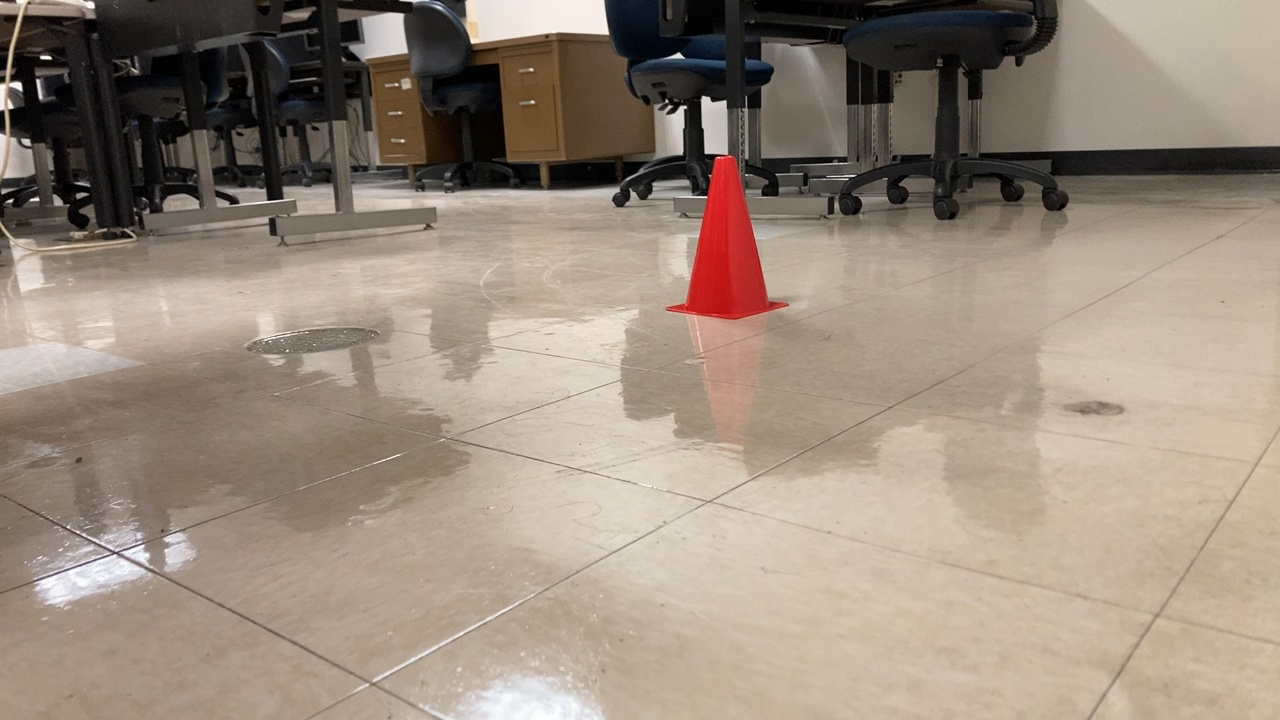red_cone: (664, 150, 791, 327)
